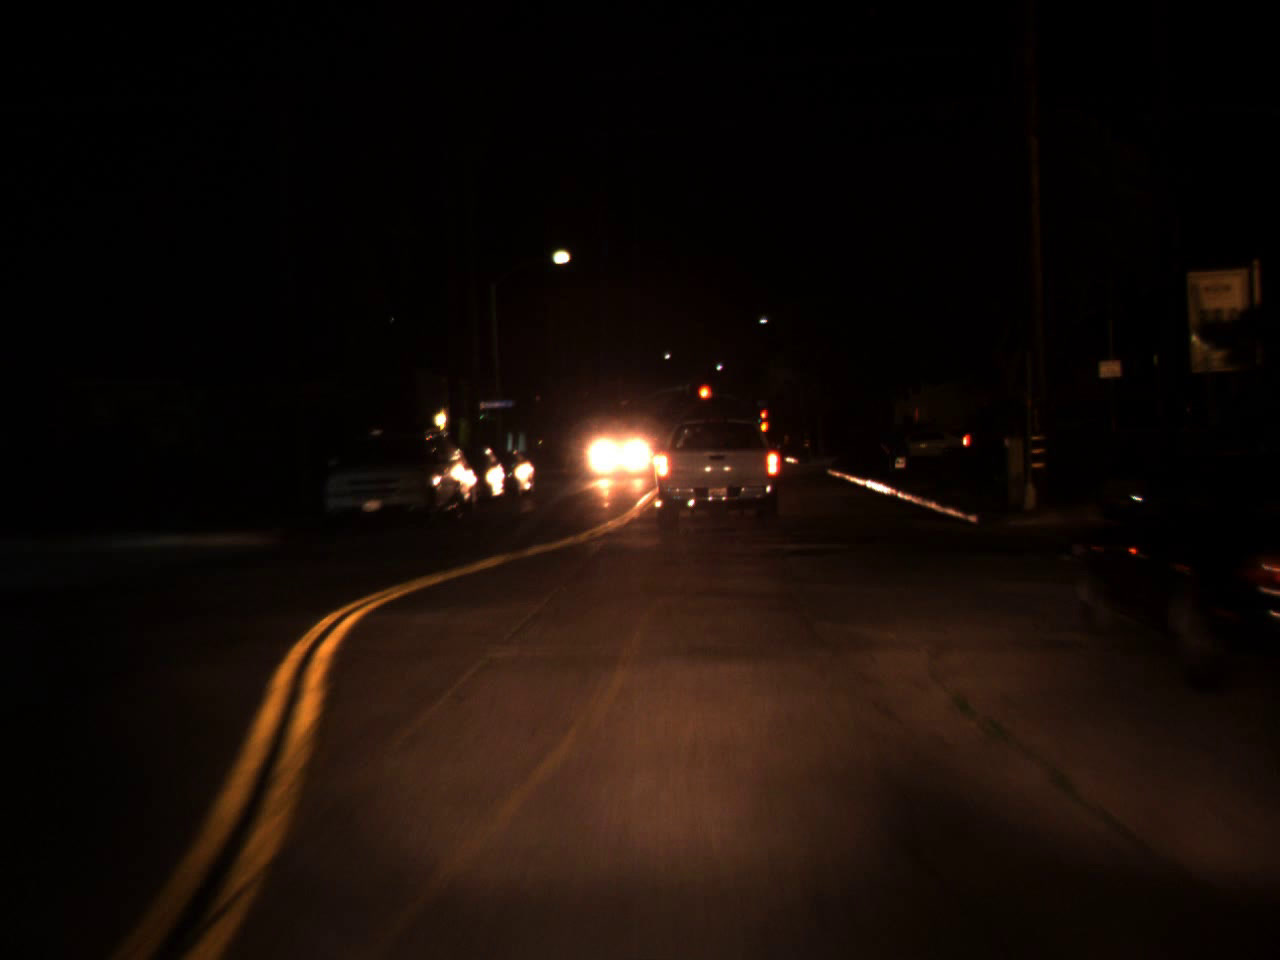stop: (696, 383, 712, 415), (759, 410, 766, 426)
